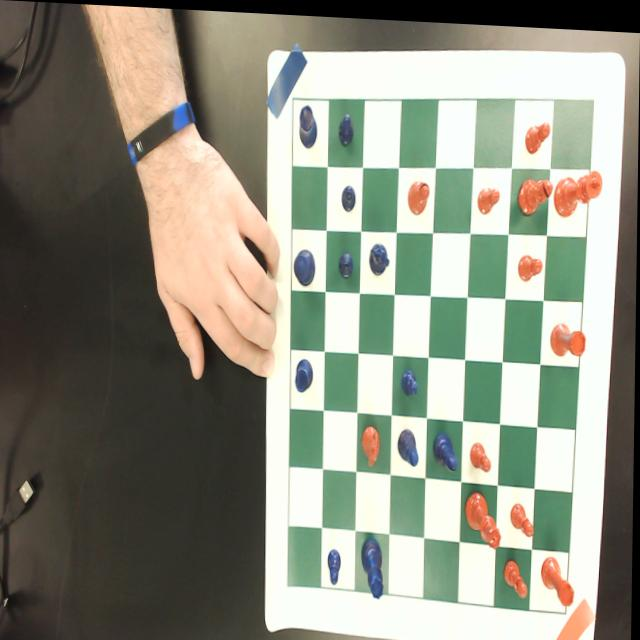B: (434, 426, 459, 467), (398, 424, 421, 463)
K: (293, 244, 317, 285)
N: (368, 237, 392, 277)
P: (338, 108, 355, 145), (328, 545, 344, 583), (403, 363, 419, 394), (339, 246, 355, 277), (343, 181, 357, 210)
Q: (362, 534, 387, 597)
R: (298, 102, 318, 149), (296, 355, 315, 390)
b: (517, 169, 554, 212), (408, 175, 430, 211)
k: (554, 161, 603, 213)
n: (362, 421, 383, 465)
p: (505, 554, 530, 593), (511, 497, 537, 532), (526, 114, 550, 149), (519, 245, 544, 278), (471, 437, 493, 469), (478, 180, 501, 210)
q: (466, 486, 503, 545)
r: (542, 550, 577, 602), (551, 318, 588, 353)
